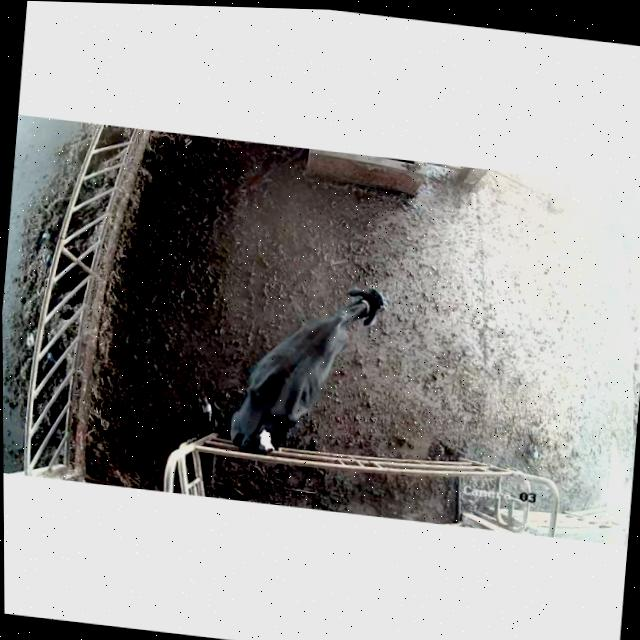stand: (212, 239, 403, 465)
